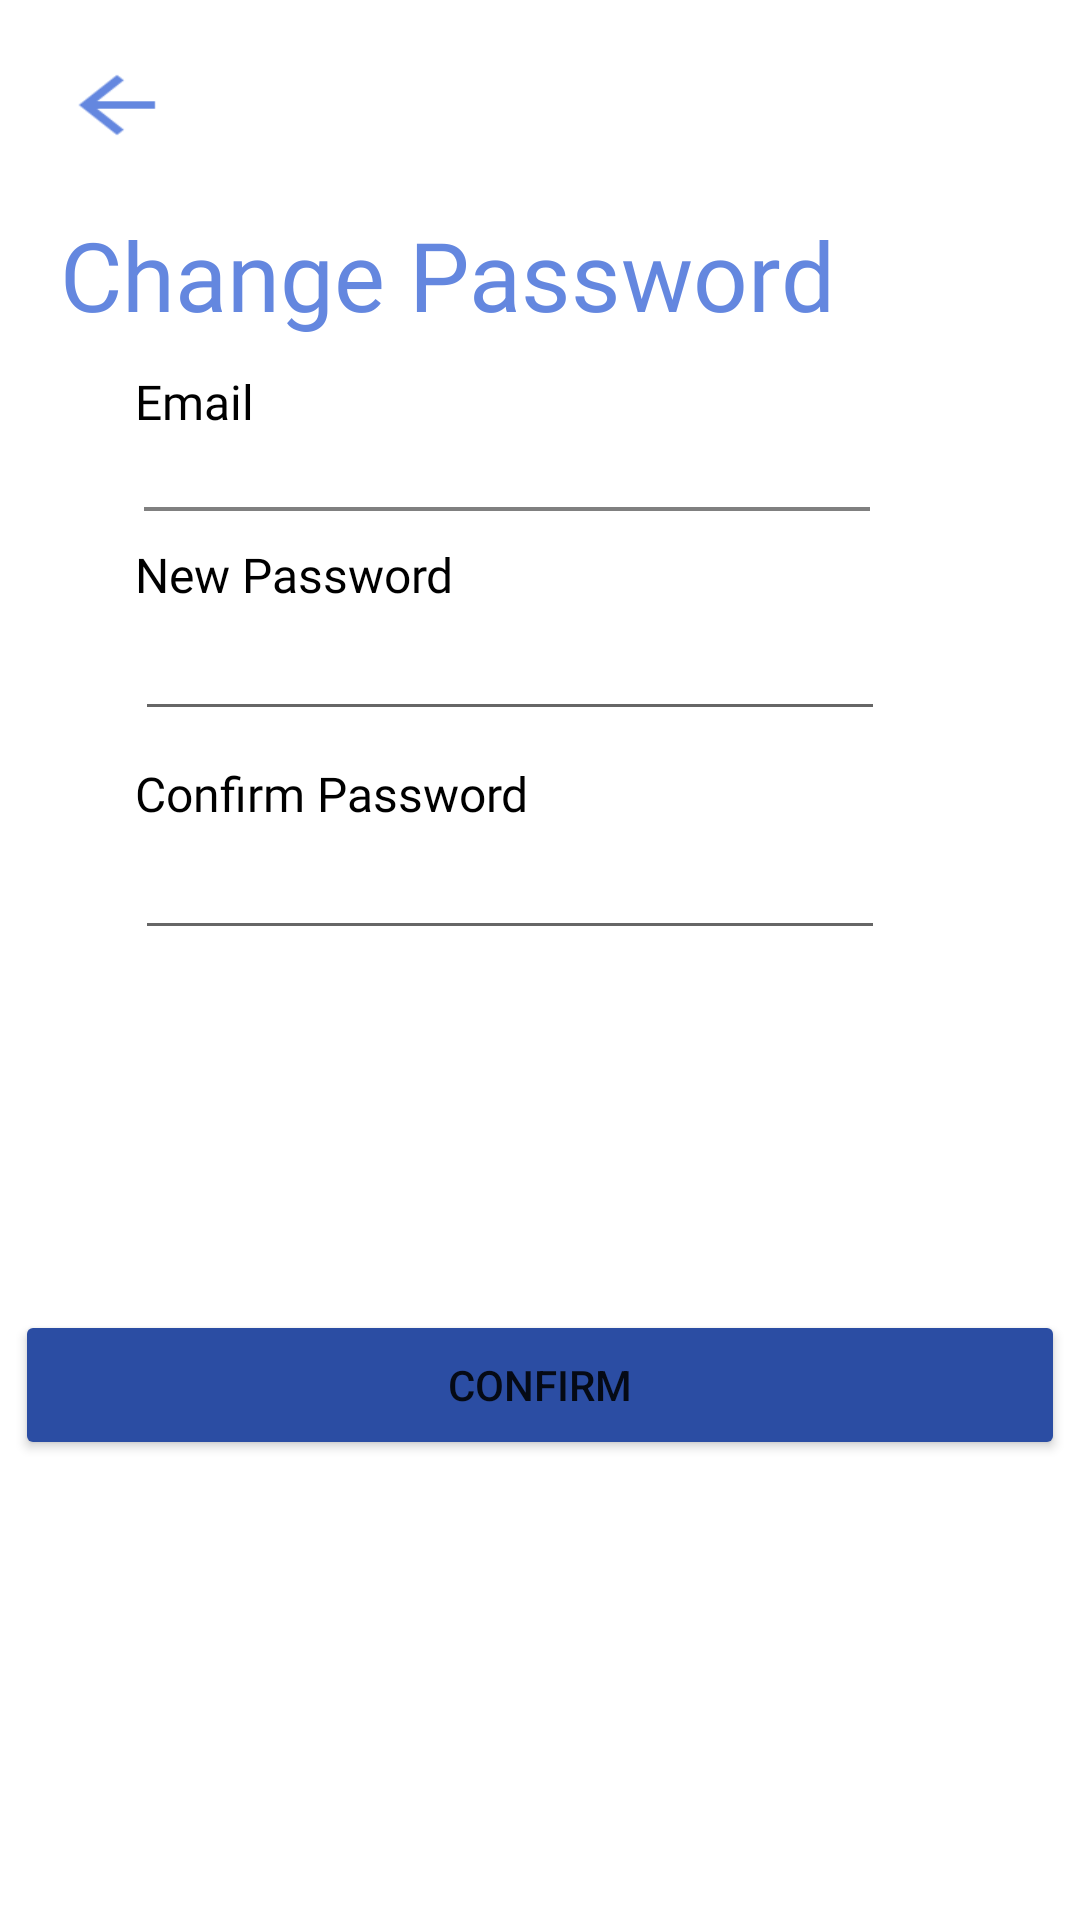

Point at icon controls on the screen. Image size 1080*1920, points as point (x, y).
btnback: point (117, 105)
